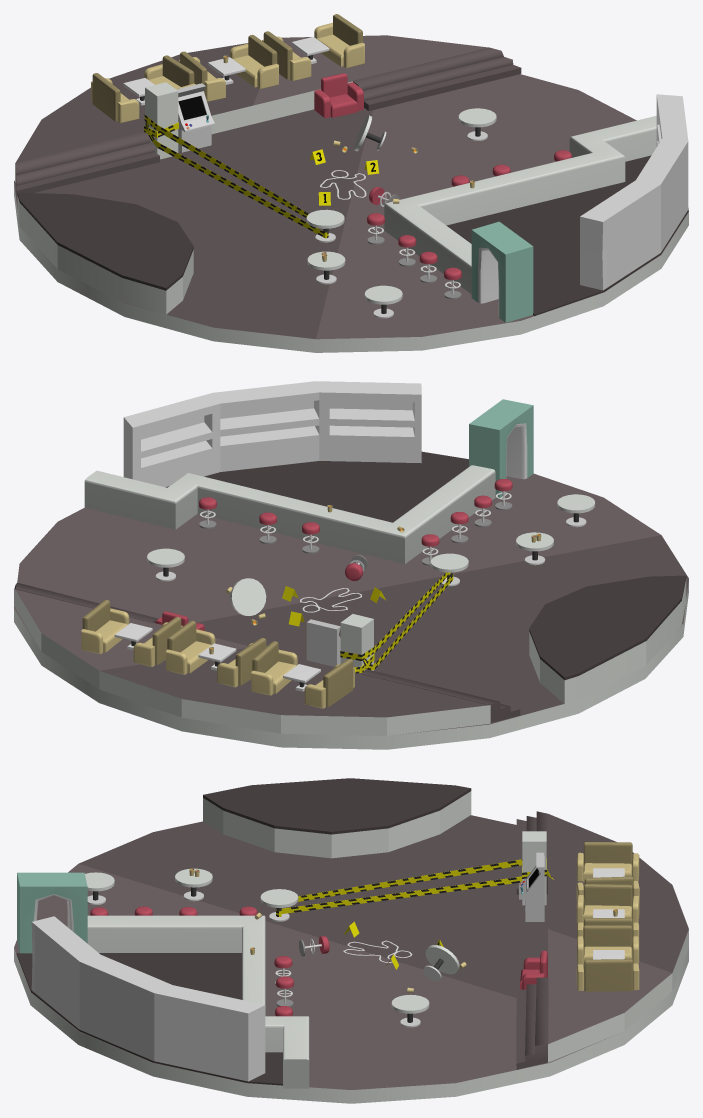
The model's file is bar04.fbx.
3 renders of one model, top to bottom at view 1: azimuth 30°, elevation 25°; view 2: azimuth 150°, elevation 25°; view 3: azimuth 270°, elevation 25°, orthographic.
Visible parts, largest first — view 1: polySurface6, pCylinder3, pCube1, pCylinder2, polySurface8, pCube77, pCube13, pCube2, pCube3, pCube74, pCube56, pCube55 (+13 smaller); view 2: polySurface6, polySurface8, pCylinder2, pCube1, pCylinder3, pCube77, pCube2, pCube56, pCube55, pCube20, pCube51, pCube74 (+13 smaller); view 3: polySurface6, polySurface8, pCylinder3, pCylinder2, pCube1, pCube77, pCube2, pCube13, pCube56, pCube51, pCube52, pCube54 (+14 smaller).
Boxes of the visible parts, box(x1,y1,x2,y2) form: polySurface6: box(14, 74, 688, 352); pCylinder3: box(17, 192, 193, 314); pCube1: box(384, 116, 656, 294); pCylinder2: box(15, 35, 488, 182); polySurface8: box(580, 94, 688, 290); pCube77: box(446, 155, 688, 315); pCube13: box(353, 47, 521, 110); pCube2: box(471, 221, 533, 322); pCube3: box(15, 131, 159, 196); pCube74: box(176, 83, 214, 152); pCube56: box(314, 14, 364, 68); pCube55: box(229, 34, 278, 89); polySurface6: box(14, 473, 688, 749); polySurface8: box(123, 381, 421, 487); pCylinder2: box(15, 589, 490, 735); pCube1: box(84, 465, 495, 564); pCylinder3: box(529, 575, 686, 704); pCube77: box(166, 451, 468, 522); pCube2: box(469, 399, 533, 497); pCube56: box(81, 600, 129, 654); pCube55: box(166, 620, 215, 674); pCube20: box(251, 641, 297, 695); pCube51: box(304, 659, 354, 708); pCube74: box(306, 619, 340, 666); polySurface6: box(14, 815, 688, 1103); polySurface8: box(31, 916, 265, 1081); pCylinder3: box(203, 778, 471, 858); pCylinder2: box(548, 814, 688, 1062); pCube1: box(87, 915, 309, 1088); pCube77: box(16, 953, 282, 1085); pCube2: box(17, 872, 87, 953); pCube13: box(516, 977, 548, 1069); pCube56: box(576, 959, 639, 991); pCube51: box(577, 842, 639, 882); pCube52: box(576, 884, 639, 924); pCube54: box(577, 925, 639, 965).
Size of the model in its own units: 41.06 by 5.59 by 41.02.
